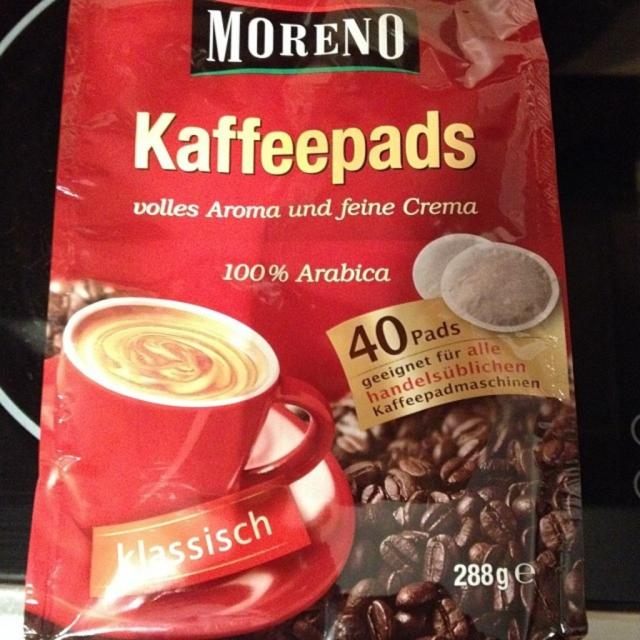Coffee: (68, 307, 267, 402)
